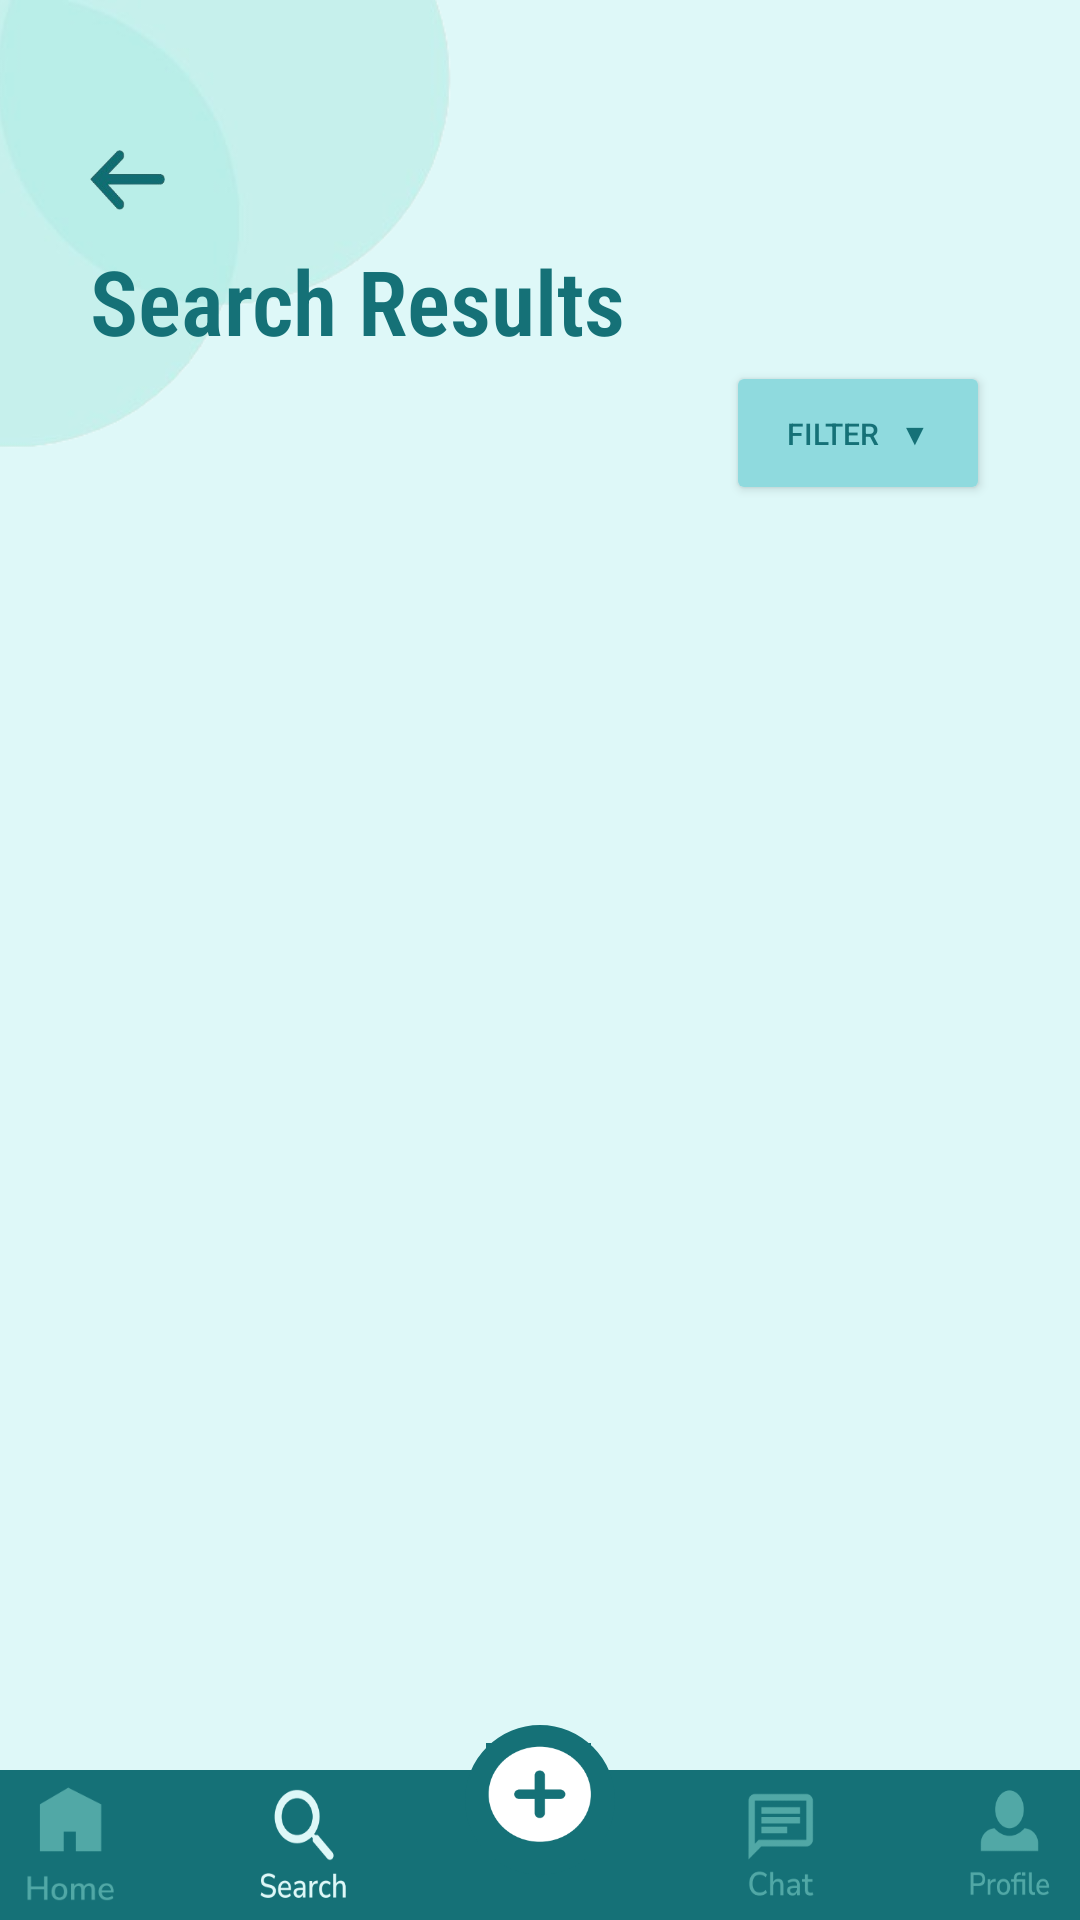

Where to tap for icons on this 1080w x 1920h app screen, as [x,y]:
addmentor: [539,1794]
back arrow: [127,180]
